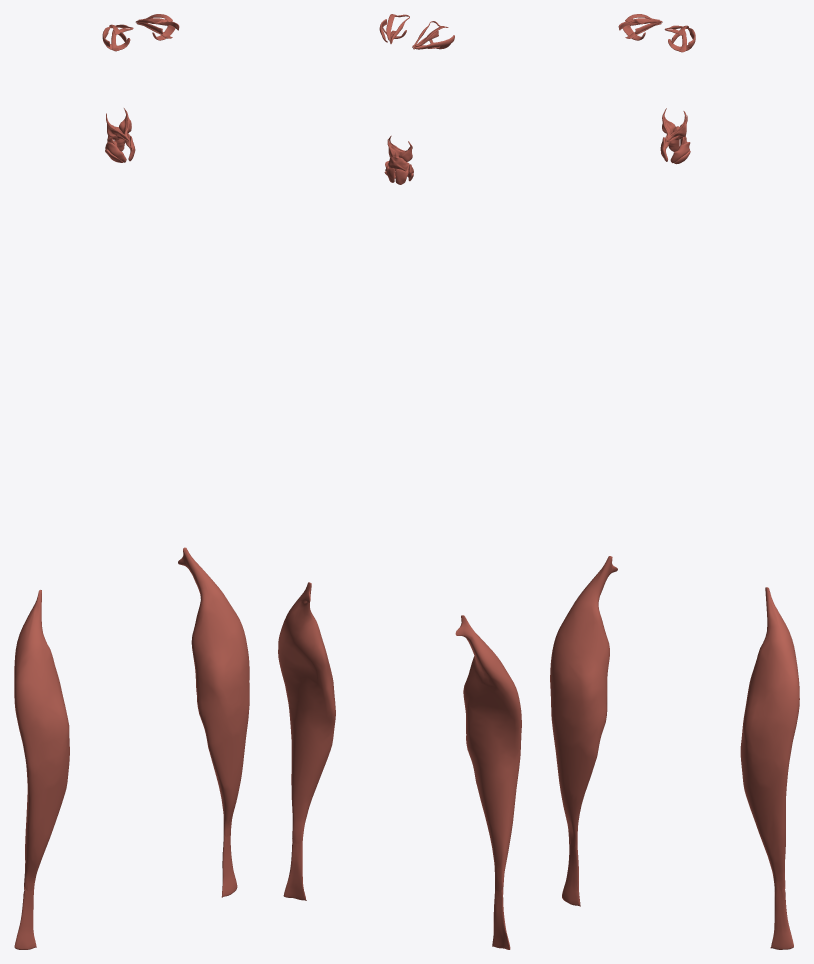
File: muscular.glb
The picture shows the model from 3 angles, left to right: view 1: azimuth 30°, elevation 25°; view 2: azimuth 150°, elevation 25°; view 3: azimuth 330°, elevation 25°; orthographic projection. The views are drawn at different scales.
Visible parts, largest first — view 1: Left rectus femoris, Right rectus femoris, Tendon of right quadriceps femoris, Tendon of left quadriceps femoris; view 2: Right rectus femoris, Left rectus femoris, Tendon of left quadriceps femoris, Tendon of right quadriceps femoris; view 3: Right rectus femoris, Left rectus femoris, Tendon of left quadriceps femoris, Tendon of right quadriceps femoris.
Part boxes in pixels (box(x1,y1,x2,y2)): Left rectus femoris: box(178, 547, 249, 837); Right rectus femoris: box(14, 590, 69, 890); Tendon of right quadriceps femoris: box(14, 887, 36, 949); Tendon of left quadriceps femoris: box(221, 831, 237, 897); Right rectus femoris: box(455, 615, 521, 891); Left rectus femoris: box(278, 582, 335, 843); Tendon of left quadriceps femoris: box(283, 839, 306, 900); Tendon of right quadriceps femoris: box(492, 888, 510, 949); Right rectus femoris: box(550, 556, 617, 846); Left rectus femoris: box(740, 587, 799, 890); Tendon of left quadriceps femoris: box(770, 886, 793, 949); Tendon of right quadriceps femoris: box(562, 840, 580, 906).
Bounding box in the file's own units: 0.302 × 1.11 × 0.0889.
